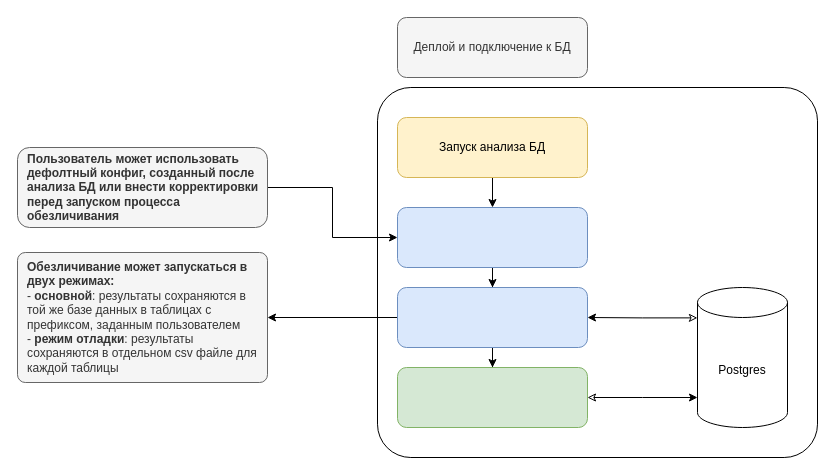
This 835x475 diagram has some shape labels left out. The shapes that lost their labels are listed below. From the top down, each one's centre as x and y in pixels, then its label:
At point (492, 237): "Проверка и внесение изменений в конфигурацию обезличиввания данных".
At point (492, 317): "Запуск обезличивания (два режима)".
At point (492, 397): "Работа с обезличенными данными".
